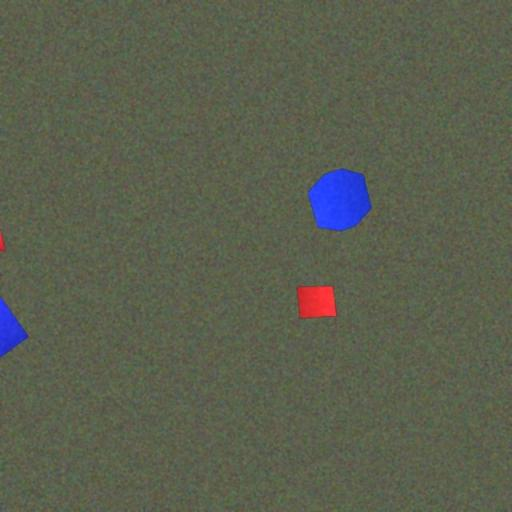BLUE_SQUARE: (0, 280, 30, 380)
RED_SQUARE: (296, 286, 338, 319)
